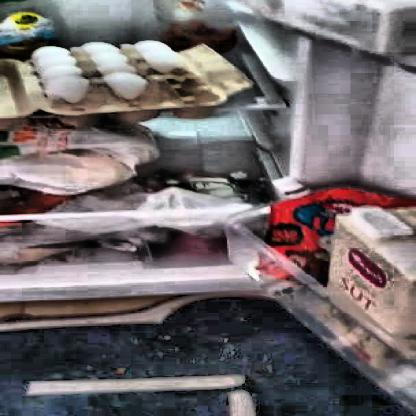eggs: (38, 43, 192, 101)
milk: (340, 207, 414, 342)
